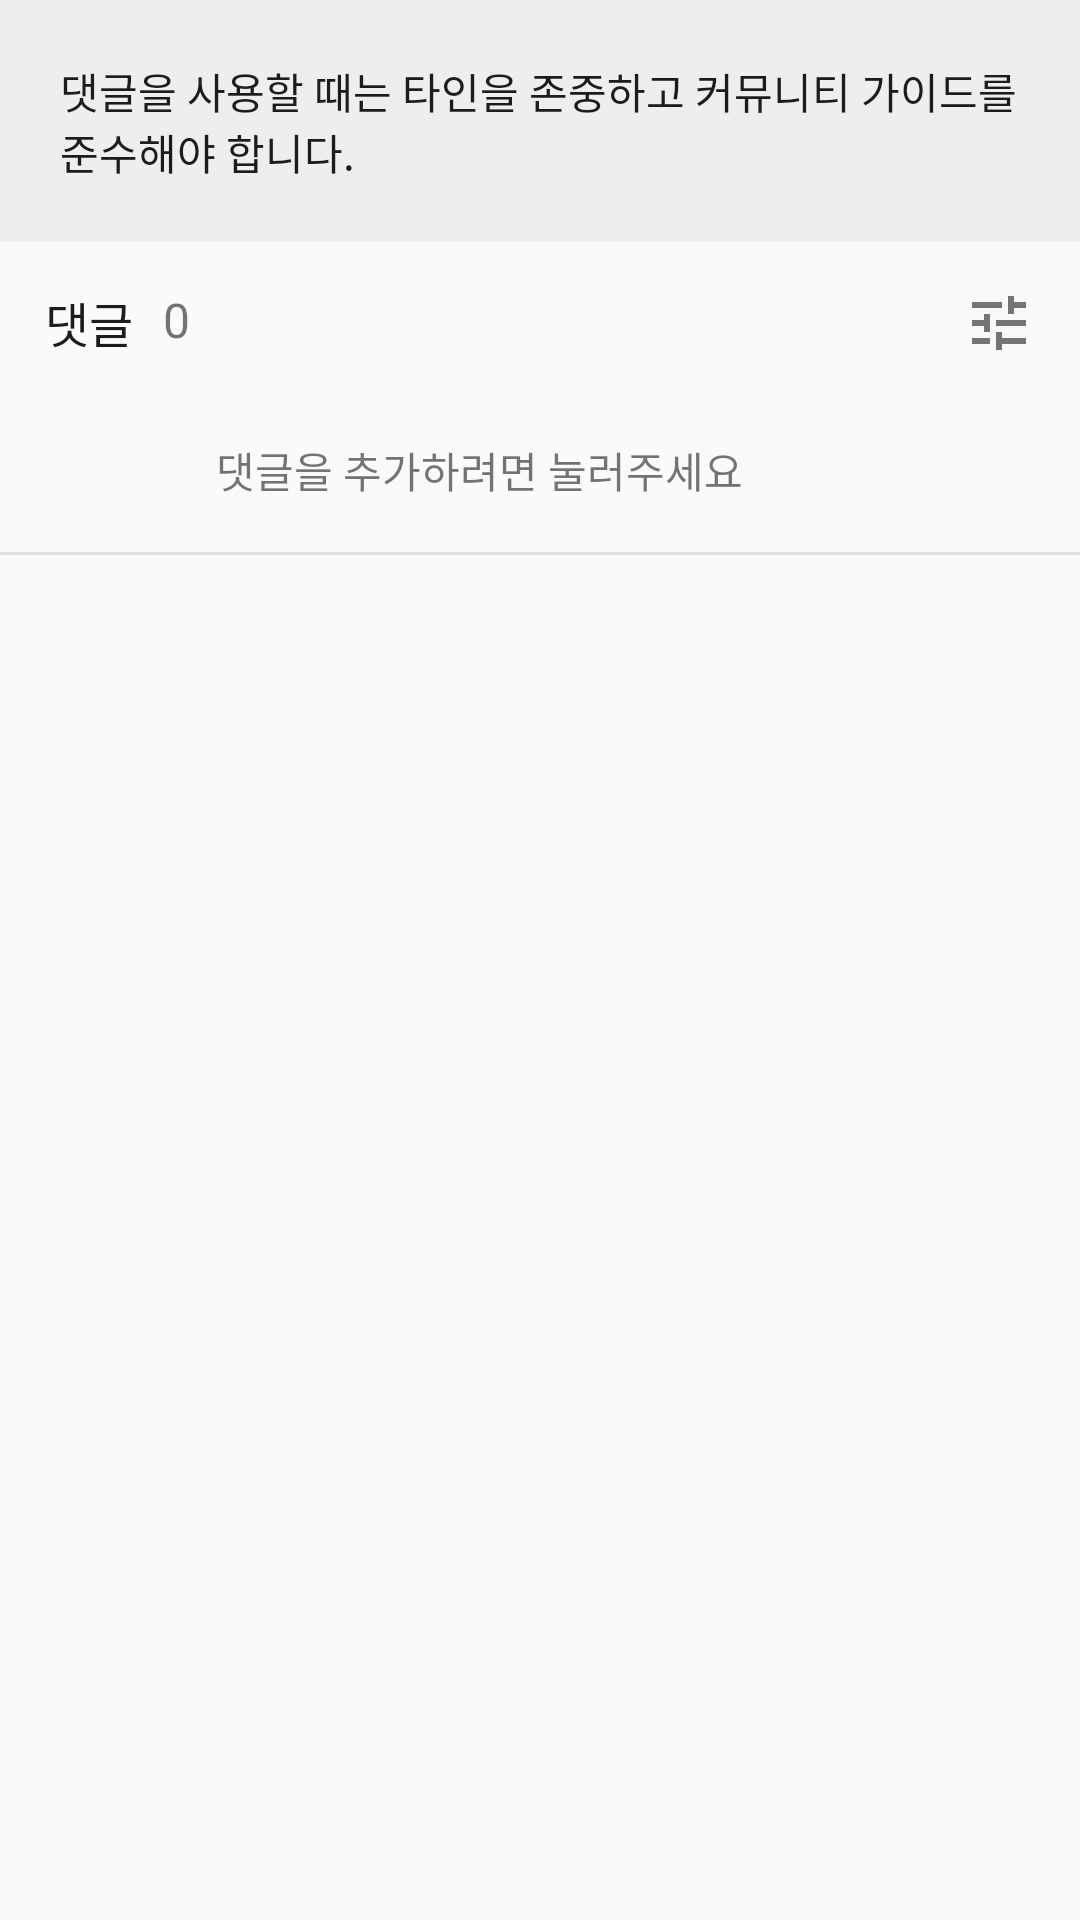

Icons on this 1080w x 1920h Android screen, each with its box as (x1, y1, x2, y2):
tune: (972, 296, 1026, 350)
